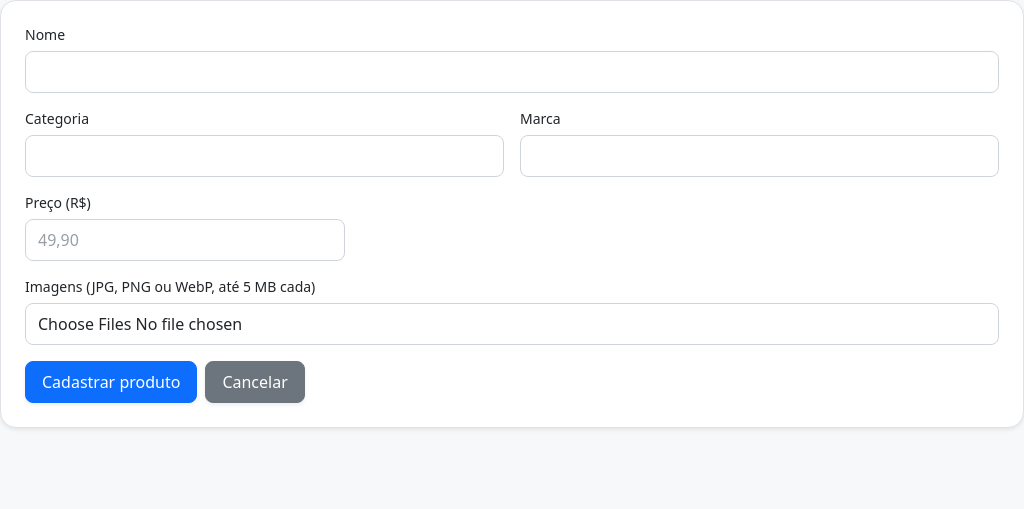
Test case: ProductForm — novo produto › mostra o erro devolvido pelo servidor e não sai da tela
The image size is (1024, 509).
Type "Boné" into the field labelled "Nome".
click(512, 72); type("Boné")  # box [25, 51, 999, 93]
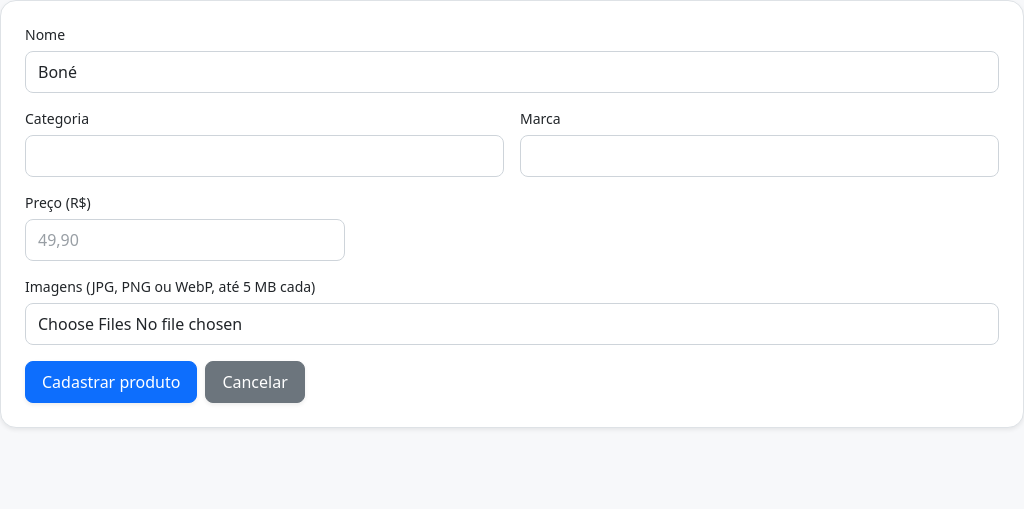
Type "Acessórios" into the field labelled "Categoria".
click(264, 156); type("Acessórios")  # box [25, 135, 504, 177]
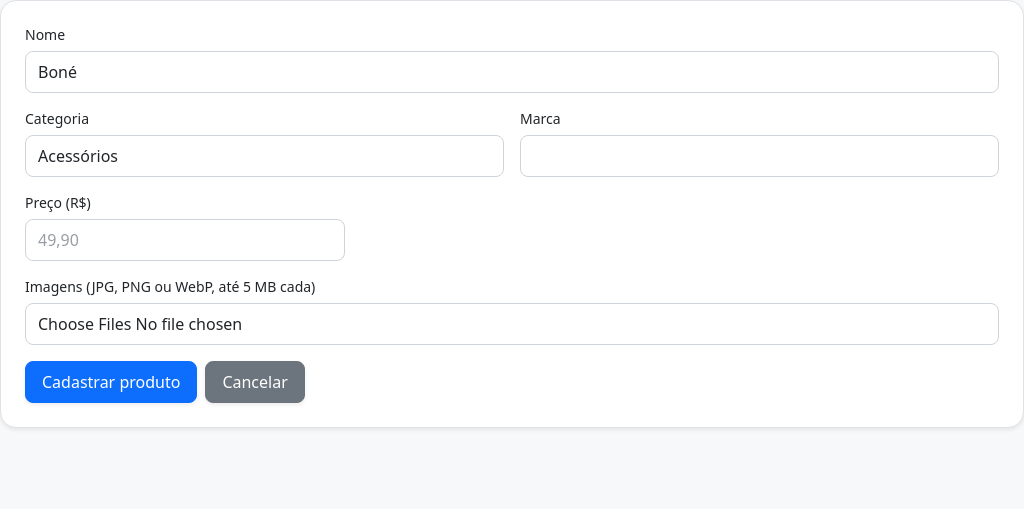
Type "0" into the field labelled "Preço (R$)".
click(185, 240); type("0")  # box [25, 219, 345, 261]
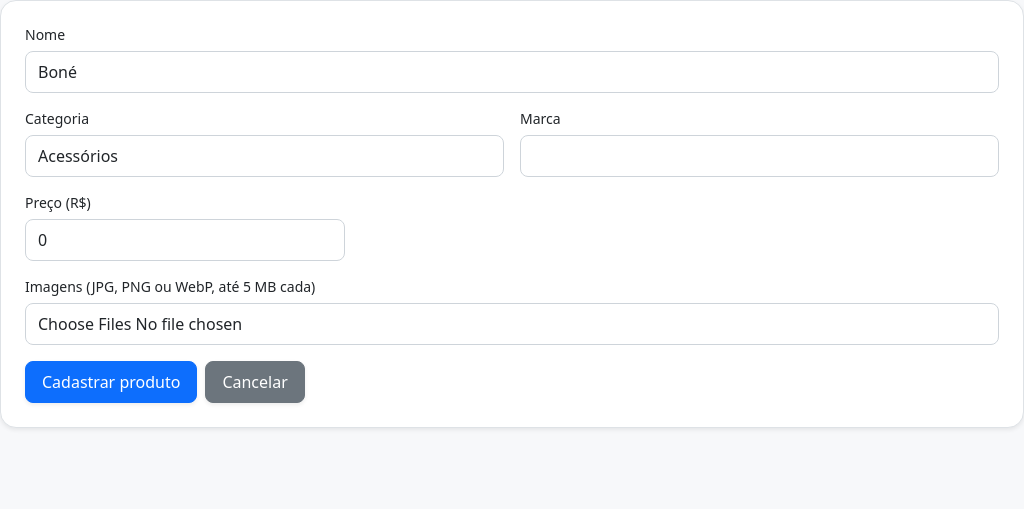
Click the button "Cadastrar produto".
click(111, 382)  # box [25, 361, 197, 403]
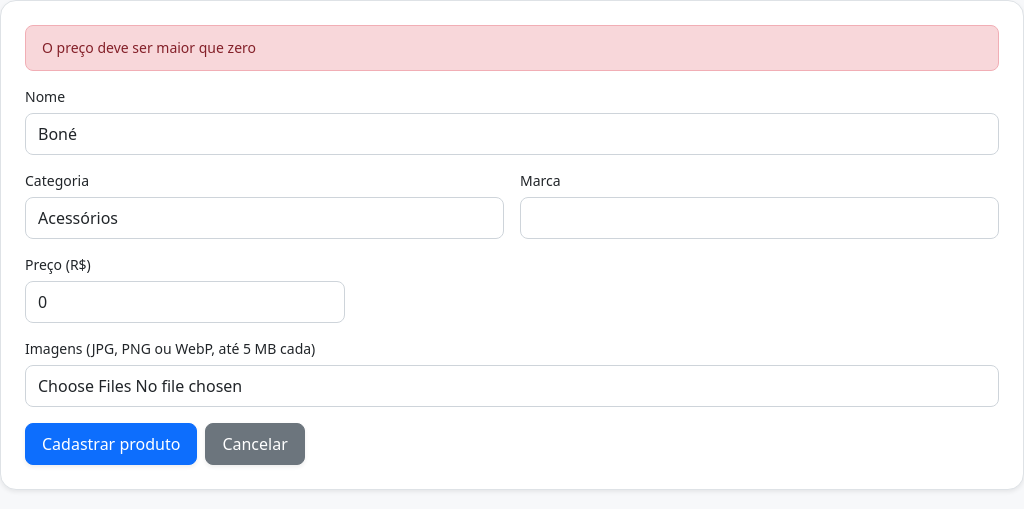
Expected: the message reads "O preço deve ser maior que zero", [42, 38, 256, 57]
